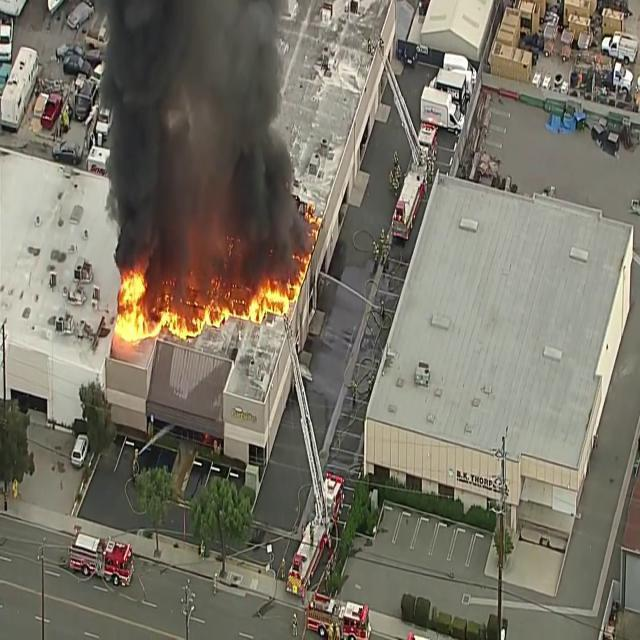Fire: (114, 264, 161, 335), (158, 298, 229, 343), (246, 280, 291, 319)
Smoke: (228, 14, 298, 265), (108, 14, 163, 255)
